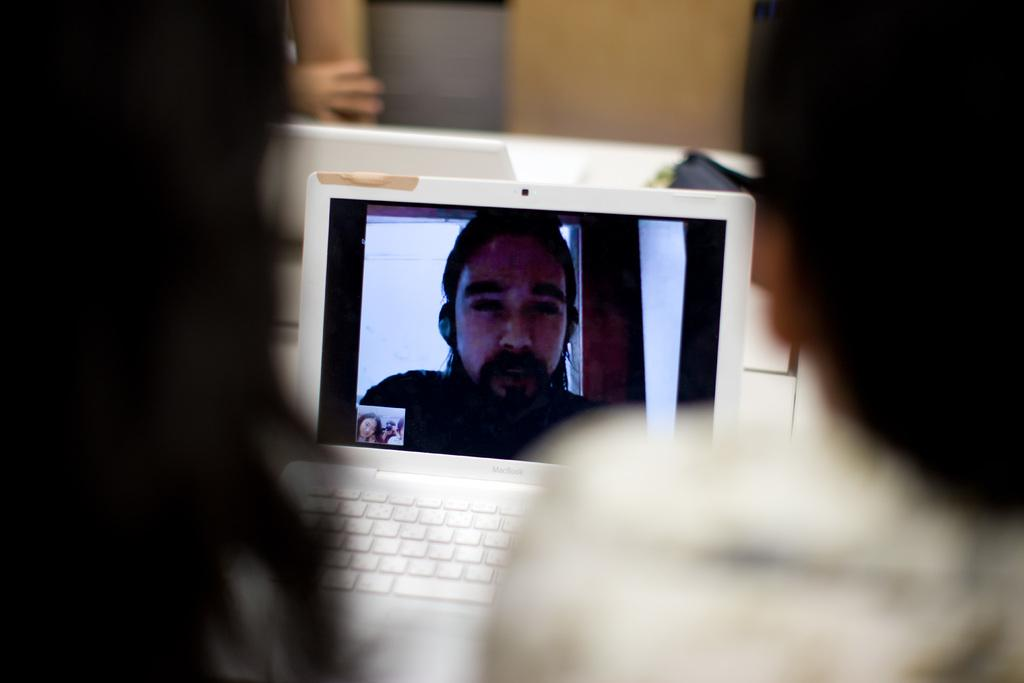Computer-keyboard: (300, 483, 530, 604)
